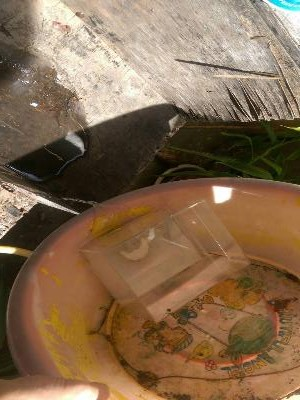bowl: (4, 176, 300, 397)
box: (80, 199, 251, 325)
